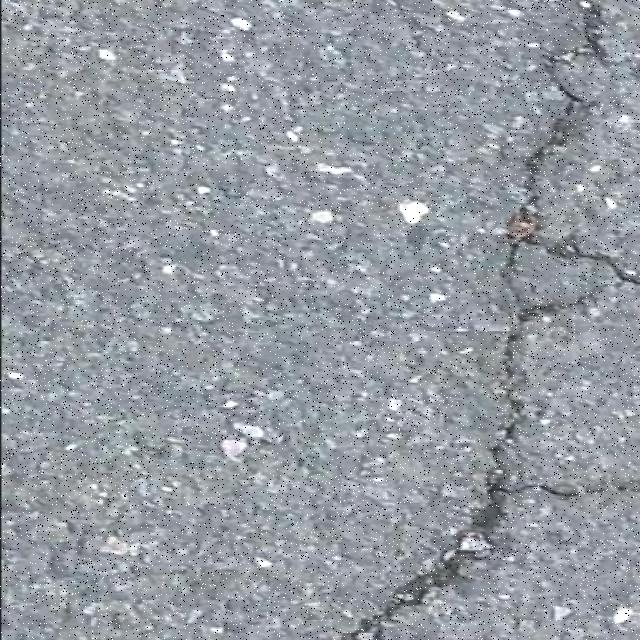Crack: (334, 0, 640, 640)
